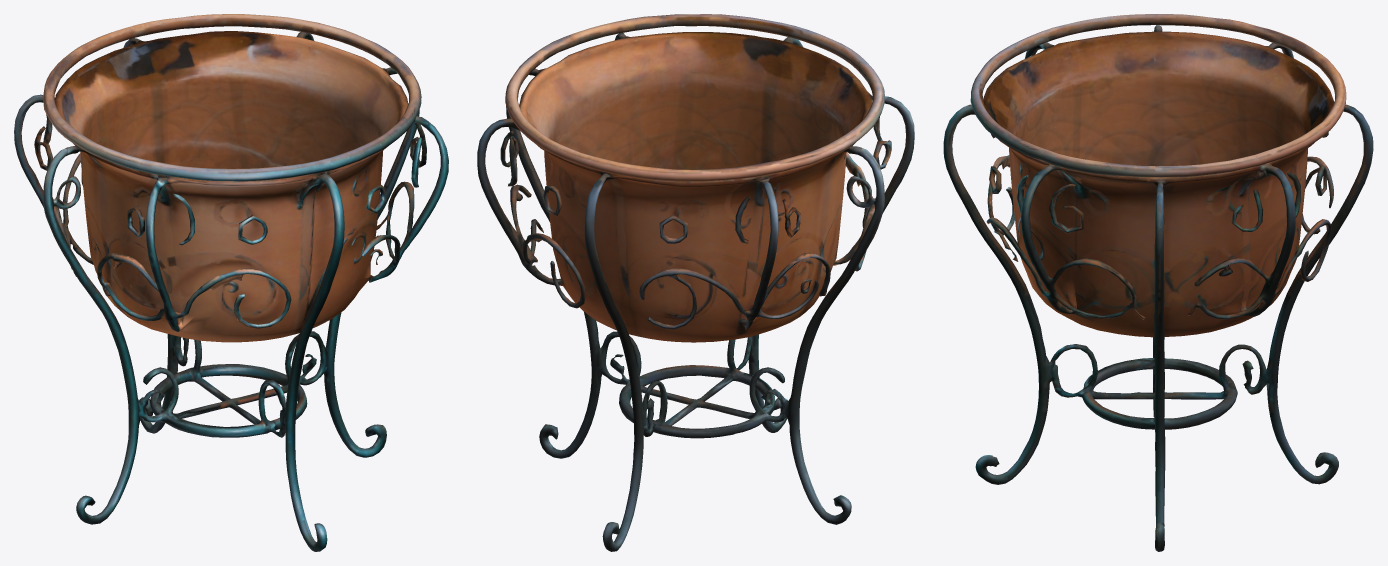
File: plant_pot_stand.glb
3 renders of one model, left to right at view 1: azimuth 30°, elevation 25°; view 2: azimuth 150°, elevation 25°; view 3: azimuth 270°, elevation 25°, orthographic.
Size of the model in its own units: 1.97 by 2 by 1.97.
1 material, 1 textured.
